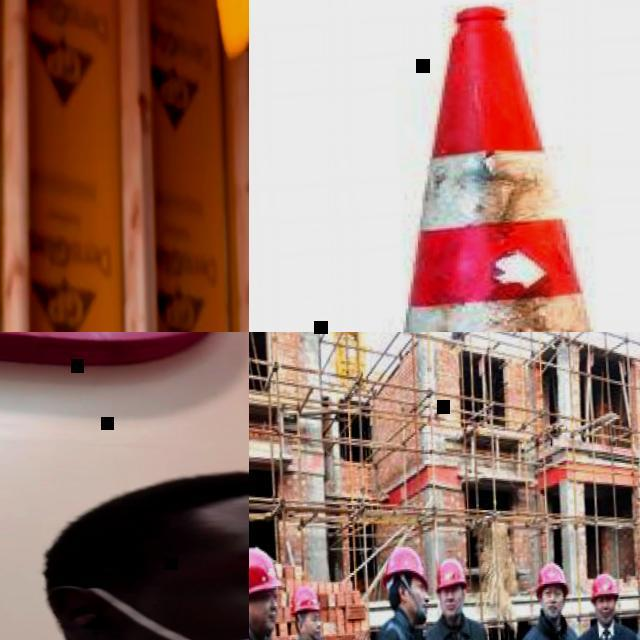helmet: (381, 545, 431, 594), (249, 544, 285, 603), (434, 556, 470, 596), (536, 562, 570, 604), (290, 581, 324, 616), (591, 572, 621, 604)
